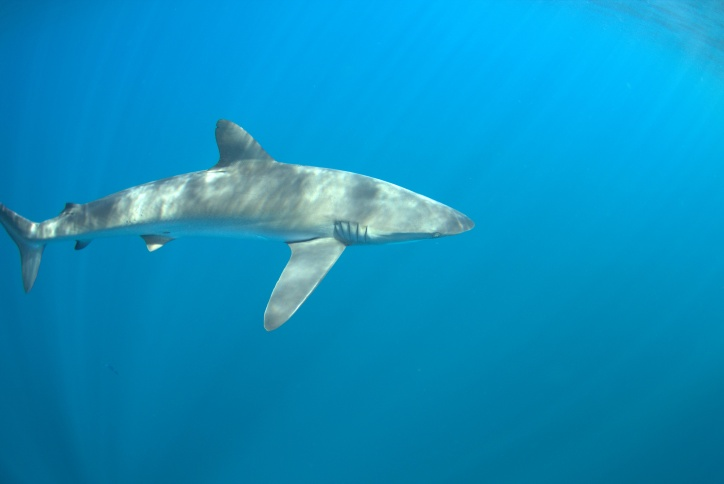Sedoso: (1, 111, 497, 342)
